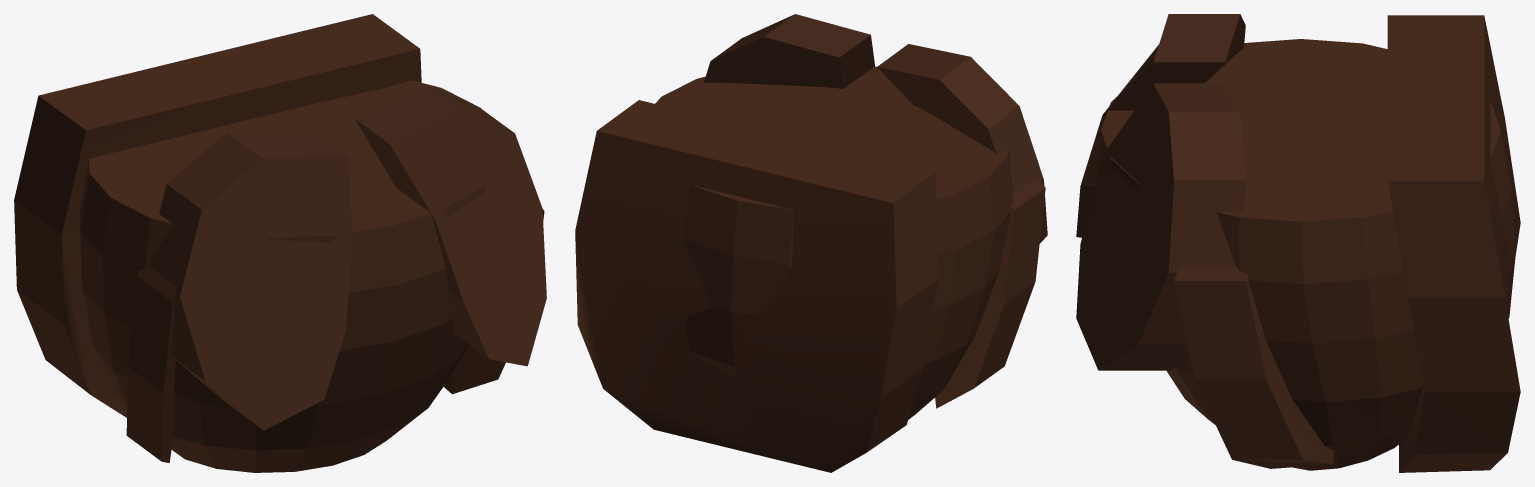
The model's file is hair_boy_curtains_01.glb.
3 renders of one model, left to right at view 1: azimuth 30°, elevation 25°; view 2: azimuth 150°, elevation 25°; view 3: azimuth 270°, elevation 25°, orthographic. The views are drawn at different scales.
Parts seen in each view (by area): view 1: Curtains_Cap, Curtains_Fringe_L, Curtains_Back_Mass, Curtains_Fringe_R, Curtains_Side_L, Curtains_Side_R; view 2: Curtains_Back_Mass, Curtains_Cap, Curtains_Fringe_L, Curtains_Fringe_R, Curtains_Side_L; view 3: Curtains_Cap, Curtains_Back_Mass, Curtains_Fringe_R, Curtains_Side_R, Curtains_Fringe_L.
Boxes of the visible parts, bbox=[...] form: Curtains_Cap: bbox=[79, 80, 485, 472]; Curtains_Fringe_L: bbox=[148, 129, 352, 430]; Curtains_Back_Mass: bbox=[14, 14, 421, 417]; Curtains_Fringe_R: bbox=[354, 84, 546, 366]; Curtains_Side_L: bbox=[126, 266, 176, 463]; Curtains_Side_R: bbox=[443, 209, 544, 394]; Curtains_Back_Mass: bbox=[575, 100, 938, 472]; Curtains_Cap: bbox=[655, 66, 1013, 419]; Curtains_Fringe_L: bbox=[877, 44, 1047, 243]; Curtains_Fringe_R: bbox=[704, 14, 874, 88]; Curtains_Side_L: bbox=[935, 178, 1045, 408]; Curtains_Cap: bbox=[1096, 39, 1515, 470]; Curtains_Back_Mass: bbox=[1387, 15, 1520, 472]; Curtains_Fringe_R: bbox=[1076, 83, 1245, 370]; Curtains_Side_R: bbox=[1174, 266, 1333, 468]; Curtains_Fringe_L: bbox=[1076, 14, 1245, 237].
Bounding box in the file's own units: 0.326 × 0.3022 × 0.3224.
